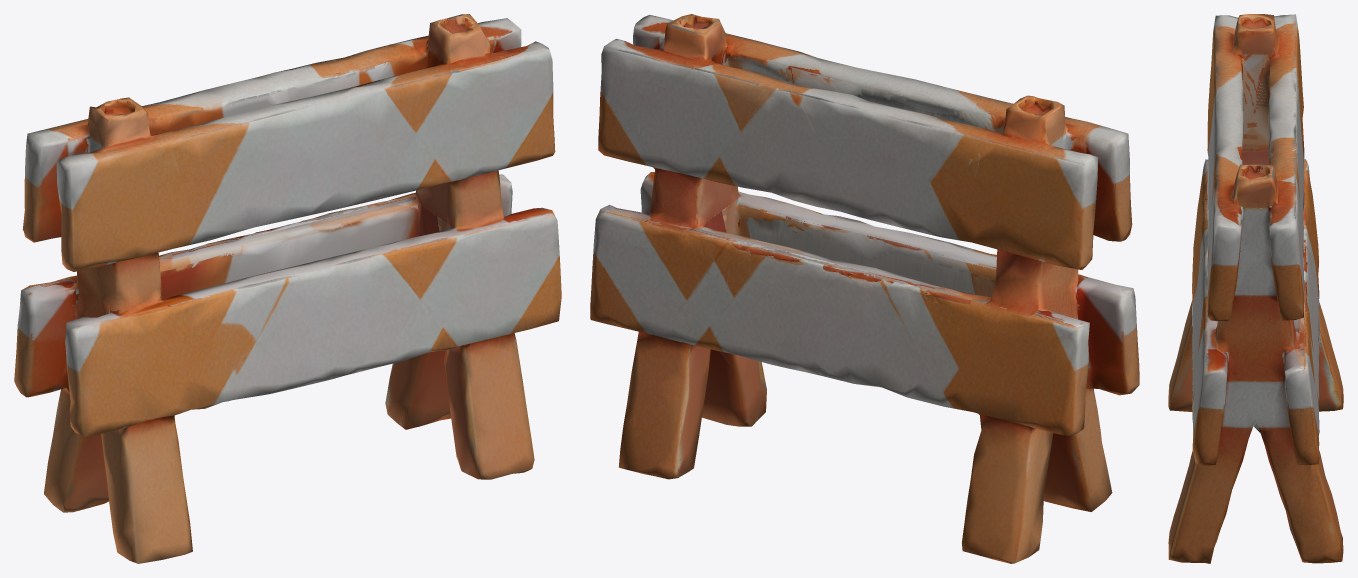
The model's file is Prop_Barricade.fbx.
3 renders of one model, left to right at view 1: azimuth 30°, elevation 25°; view 2: azimuth 150°, elevation 25°; view 3: azimuth 270°, elevation 25°, orthographic. The views are drawn at different scales.
Visible parts, largest first — view 1: texture_mapping; view 2: texture_mapping; view 3: texture_mapping.
Boxes of the visible parts, box(x1,y1,x2,y2) form: texture_mapping: box(14, 14, 561, 563); texture_mapping: box(590, 14, 1139, 563); texture_mapping: box(1168, 14, 1343, 563).
Bounding box in the file's own units: 100 × 83.28 × 34.69.
Materials: 1 (1 with a texture image).
